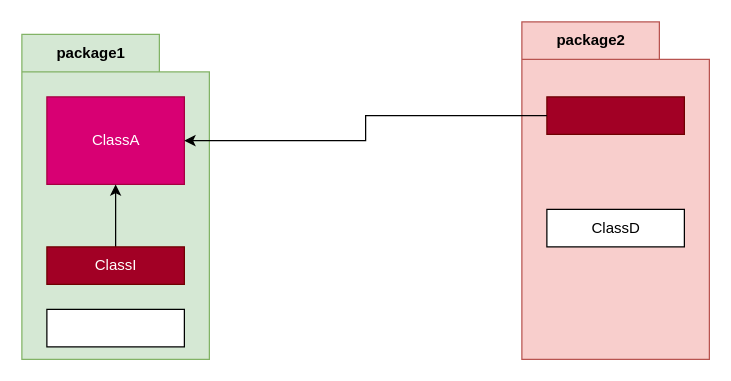
Image size: 731x381. Some labels were removed from this diagram. Each missing label, with the centre of its shape:
"classB" goes at [115,327].
"ClassC" goes at [615,115].
